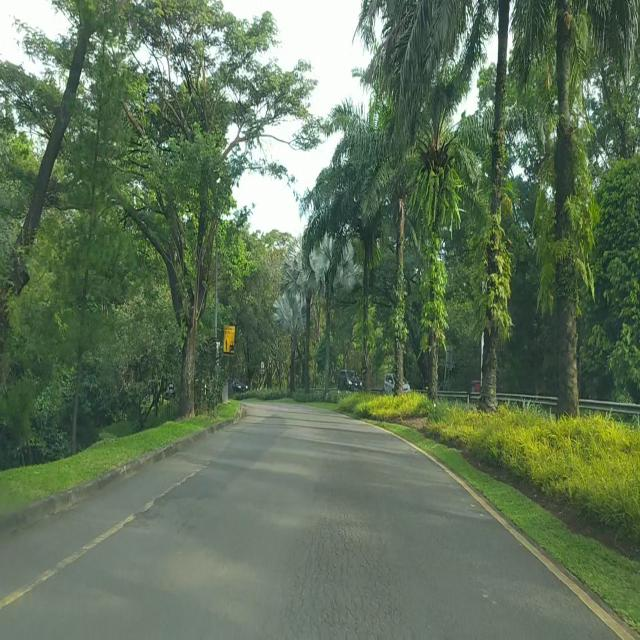Drain Hole: (280, 511, 404, 640)
